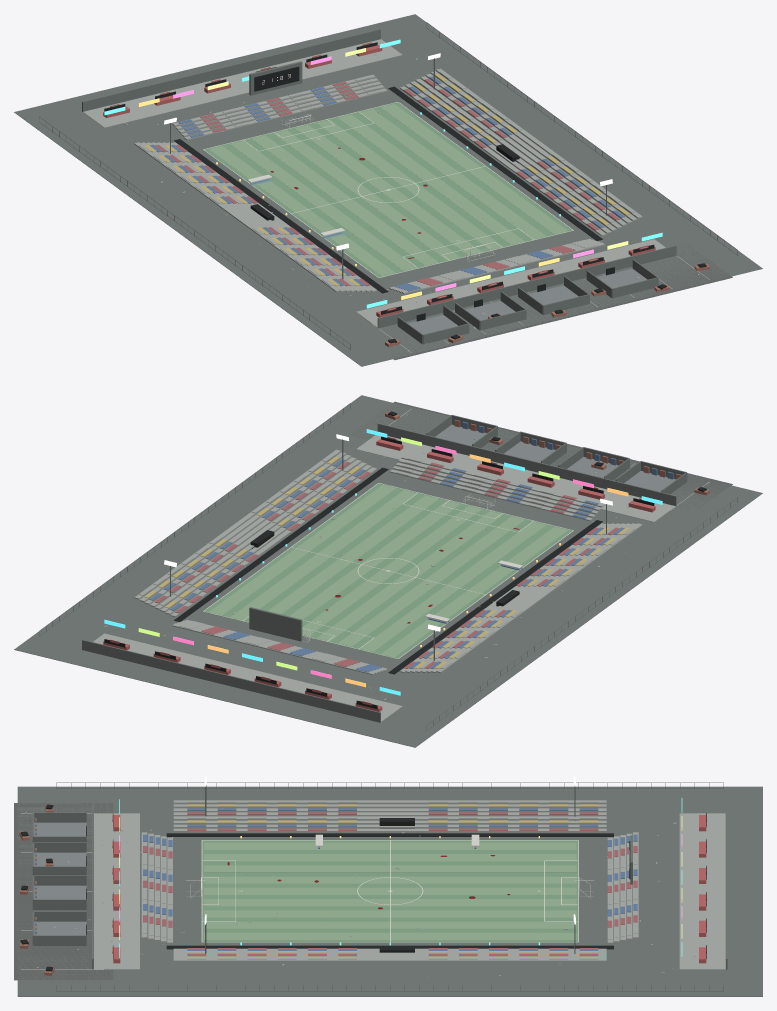
File: level_01_apito_final_stadium.glb
3 views of the same model, one above another, from view 1: azimuth 30°, elevation 25°; view 2: azimuth 150°, elevation 25°; view 3: azimuth 270°, elevation 25° (orthographic). The views are drawn at different scales.
Visible parts, largest first — view 1: larger_outer_stadium_floor, football_pitch_base_no_center_blob, north_covered_concourse_floor, north_concourse_back_wall, south_parking_lot_explorable, south_concourse_back_wall, south_covered_concourse_floor, mowed_grass_stripe_8, mowed_grass_stripe_2, mowed_grass_stripe_6, mowed_grass_stripe_3, mowed_grass_stripe_4 (+23 smaller); view 2: larger_outer_stadium_floor, football_pitch_base_no_center_blob, south_covered_concourse_floor, north_concourse_back_wall, south_concourse_back_wall, north_covered_concourse_floor, mowed_grass_stripe_2, mowed_grass_stripe_8, mowed_grass_stripe_3, mowed_grass_stripe_1, mowed_grass_stripe_4, south_parking_lot_explorable (+25 smaller); view 3: larger_outer_stadium_floor, football_pitch_base_no_center_blob, south_parking_lot_explorable, north_covered_concourse_floor, south_covered_concourse_floor, mowed_grass_stripe_5, mowed_grass_stripe_2, mowed_grass_stripe_4, mowed_grass_stripe_6, mowed_grass_stripe_3, mowed_grass_stripe_1, mowed_grass_stripe_8 (+42 smaller).
Boxes of the visible parts, x1,y1,x2,y2 form: larger_outer_stadium_floor: [14, 14, 762, 366]; football_pitch_base_no_center_blob: [204, 102, 573, 278]; north_covered_concourse_floor: [83, 39, 402, 127]; north_concourse_back_wall: [82, 29, 380, 111]; south_parking_lot_explorable: [369, 245, 732, 359]; south_concourse_back_wall: [377, 245, 676, 328]; south_covered_concourse_floor: [356, 239, 665, 327]; mowed_grass_stripe_8: [381, 104, 567, 234]; mowed_grass_stripe_2: [252, 135, 438, 265]; mowed_grass_stripe_6: [338, 114, 524, 244]; mowed_grass_stripe_3: [273, 130, 460, 260]; mowed_grass_stripe_4: [295, 125, 481, 255]; larger_outer_stadium_floor: [14, 395, 762, 747]; football_pitch_base_no_center_blob: [203, 483, 572, 659]; south_covered_concourse_floor: [356, 435, 675, 521]; north_concourse_back_wall: [82, 639, 380, 722]; south_concourse_back_wall: [377, 423, 676, 505]; north_covered_concourse_floor: [93, 633, 402, 721]; mowed_grass_stripe_2: [338, 516, 524, 646]; mowed_grass_stripe_8: [209, 485, 395, 615]; mowed_grass_stripe_3: [316, 511, 503, 641]; mowed_grass_stripe_1: [360, 521, 546, 651]; mowed_grass_stripe_4: [302, 506, 481, 636]; south_parking_lot_explorable: [350, 401, 732, 512]; larger_outer_stadium_floor: [17, 786, 762, 996]; football_pitch_base_no_center_blob: [202, 840, 577, 942]; south_parking_lot_explorable: [14, 803, 113, 980]; north_covered_concourse_floor: [679, 813, 725, 969]; south_covered_concourse_floor: [94, 813, 139, 969]; mowed_grass_stripe_5: [204, 899, 576, 906]; mowed_grass_stripe_2: [204, 865, 576, 872]; mowed_grass_stripe_4: [204, 887, 576, 894]; mowed_grass_stripe_6: [204, 910, 576, 917]; mowed_grass_stripe_3: [204, 876, 576, 883]; mowed_grass_stripe_1: [204, 854, 576, 861]; mowed_grass_stripe_8: [204, 932, 576, 939].
Bounding box in the file's own units: 140 × 13.58 × 211.
